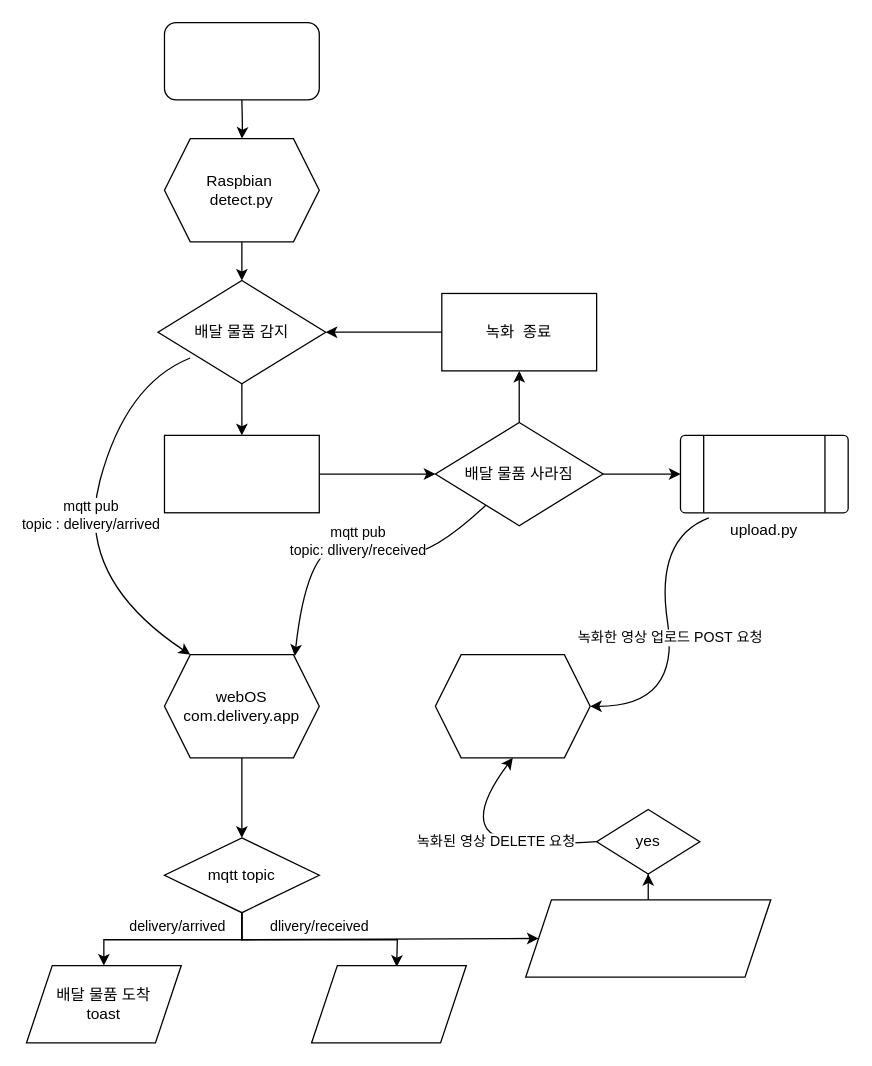
Some shapes in this 872 by 1066 pixel diagram are drawn without their labels. The shapes that lost their labels are listed below. From the top down, each one's centre as x and y in pixels, then its label:
At point (241, 60): "시작".
At point (241, 473): "녹화 시작".
At point (512, 705): "express 영상 스트리밍 서버".
At point (647, 937): "배달 물품을 수령하셨습니까? alert".
At point (388, 1003): "배달 물품 사라짐 toast".
